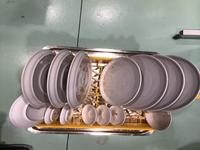Dish: (129, 54, 167, 110), (99, 57, 140, 106), (151, 54, 185, 111), (170, 54, 200, 111), (144, 112, 172, 130), (82, 104, 98, 126), (110, 106, 126, 126), (96, 105, 110, 126)
Inclined_dish: (21, 49, 54, 108), (47, 49, 74, 108), (66, 51, 93, 109), (10, 94, 47, 128), (44, 105, 59, 124), (59, 107, 73, 124)
